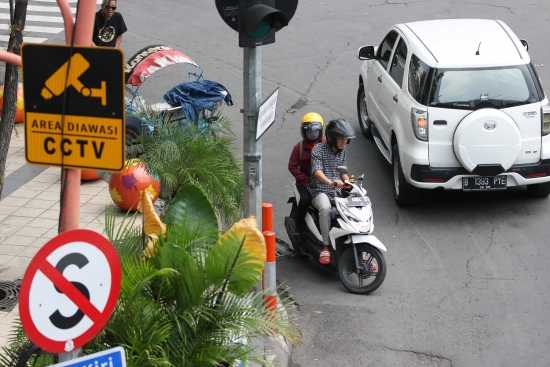car: (359, 18, 550, 199)
motorbike: (283, 113, 388, 299)
